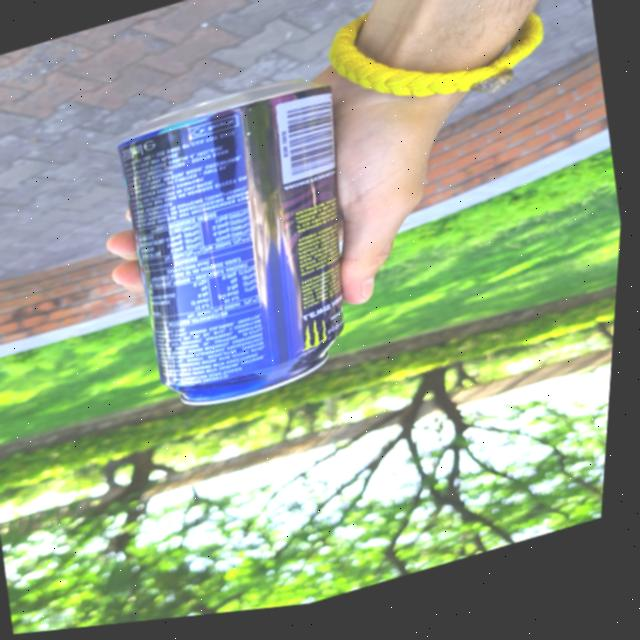Monster LH44: (94, 67, 391, 438)
